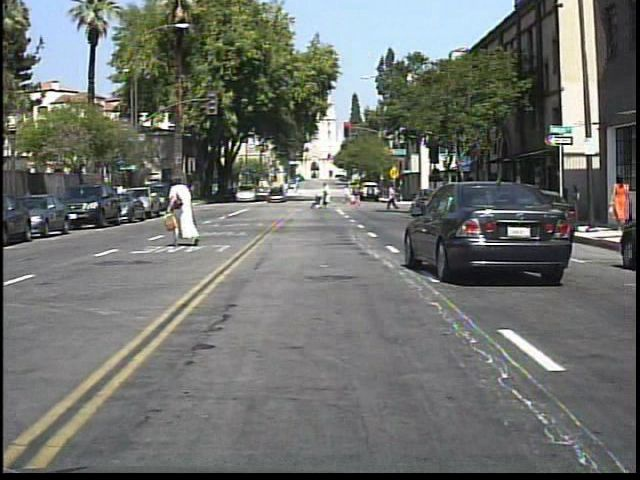person: (165, 168, 203, 251), (608, 167, 634, 228), (494, 170, 514, 220), (384, 182, 400, 212), (321, 180, 335, 210)
